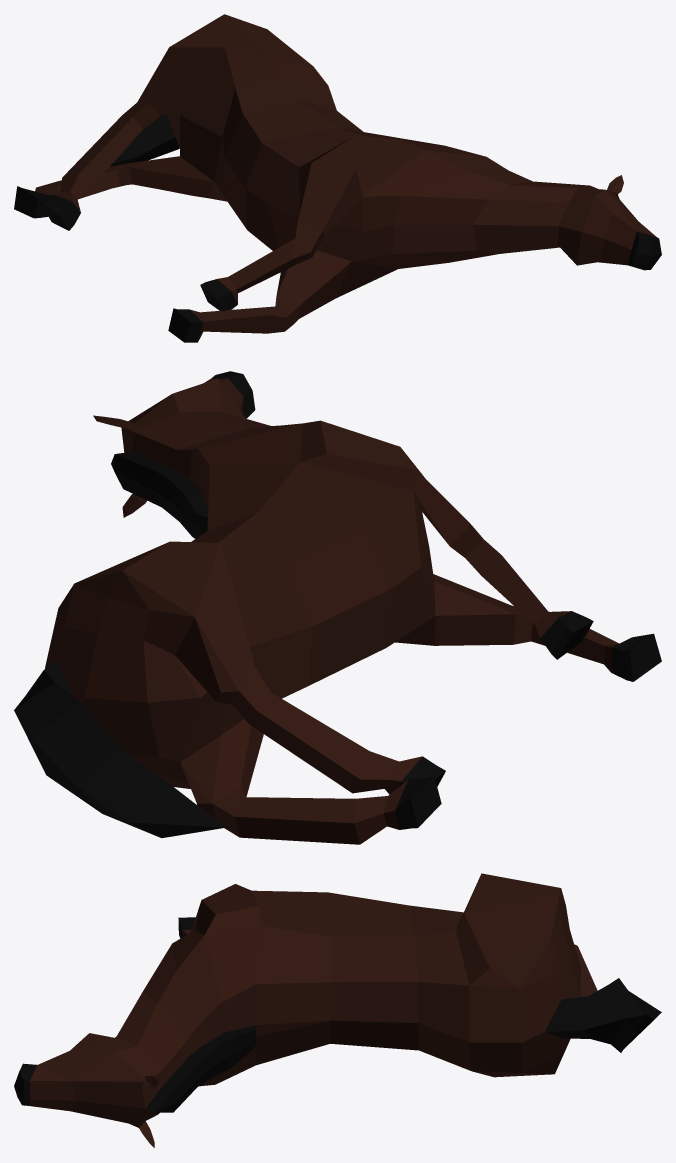
File: Horse_000016.obj
3 renders of one model, top to bottom at view 1: azimuth 30°, elevation 25°; view 2: azimuth 150°, elevation 25°; view 3: azimuth 270°, elevation 25°, orthographic. The views are drawn at different scales.
Parts seen in each view (by area): view 1: Horse_Cylinder; view 2: Horse_Cylinder; view 3: Horse_Cylinder.
Part boxes in pixels (box(x1,y1,x2,y2)): Horse_Cylinder: box(14, 14, 661, 342); Horse_Cylinder: box(14, 371, 661, 844); Horse_Cylinder: box(14, 873, 661, 1147).
Size of the model in its own units: 7.38 by 2.73 by 9.09.
